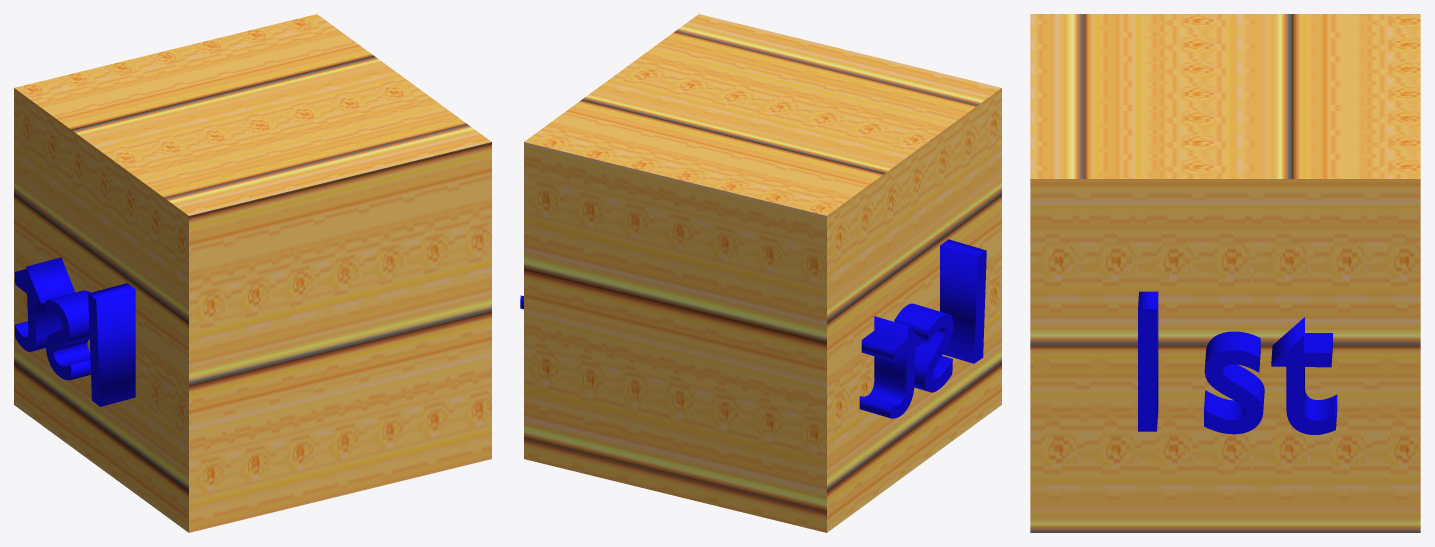
Rendered from stage_1_Cube.obj.
3 renders of one model, left to right at view 1: azimuth 30°, elevation 25°; view 2: azimuth 150°, elevation 25°; view 3: azimuth 270°, elevation 25°, orthographic. The views are drawn at different scales.
Parts seen in each view (by area): view 1: 立方体; view 2: 立方体; view 3: 立方体.
Boxes of the visible parts, bbox=[...] form: 立方体: bbox=[14, 14, 491, 532]; 立方体: bbox=[520, 14, 1001, 532]; 立方体: bbox=[1030, 14, 1420, 532].
Bounding box in the file's own units: 2.53 × 2 × 2.
